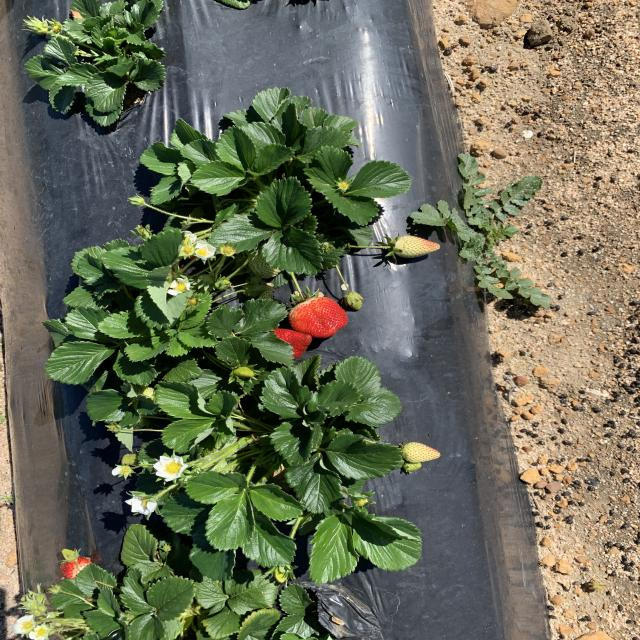unripe: (286, 295, 350, 338), (251, 322, 315, 364), (57, 555, 93, 580)
